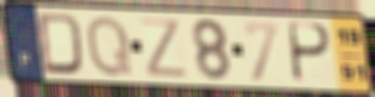7: (242, 20, 282, 84)
8: (190, 17, 232, 83)
D: (35, 11, 86, 78)
P: (288, 20, 334, 86)
Q: (85, 13, 135, 79)
Z: (138, 16, 191, 79)
